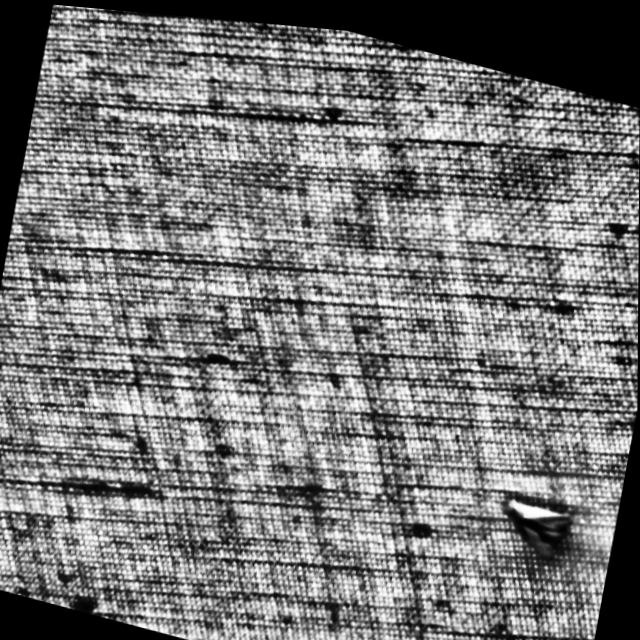Stitch: (493, 487, 584, 566)
